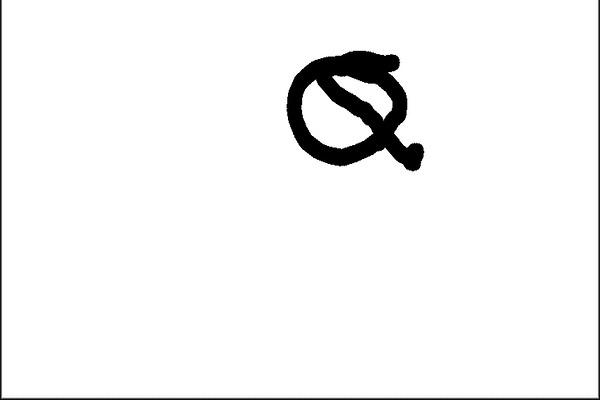Q: (271, 37, 430, 185)
